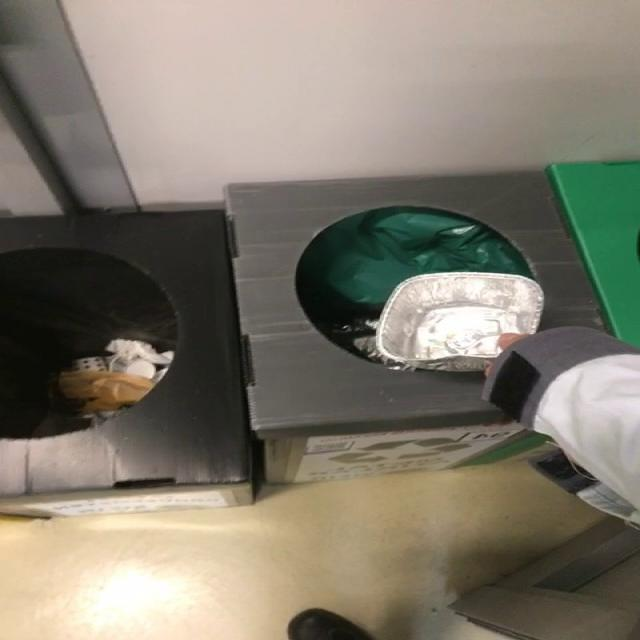bin: (0, 171, 605, 511)
metal: (379, 273, 544, 372)
